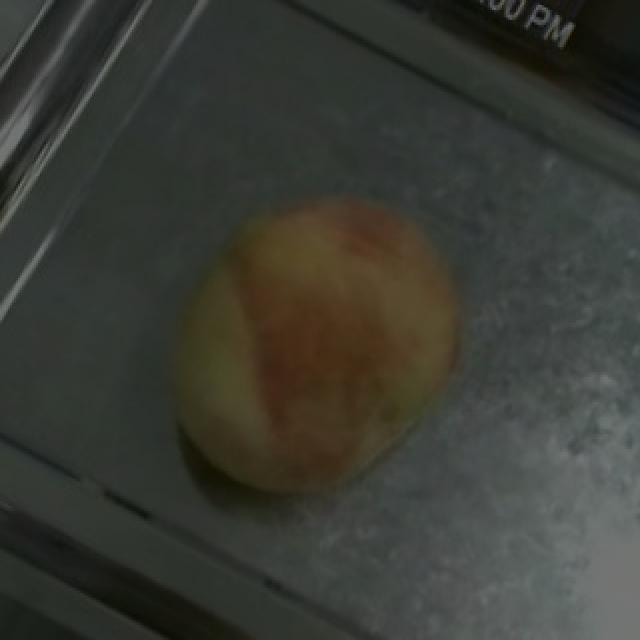Fruit: (136, 144, 500, 486)
